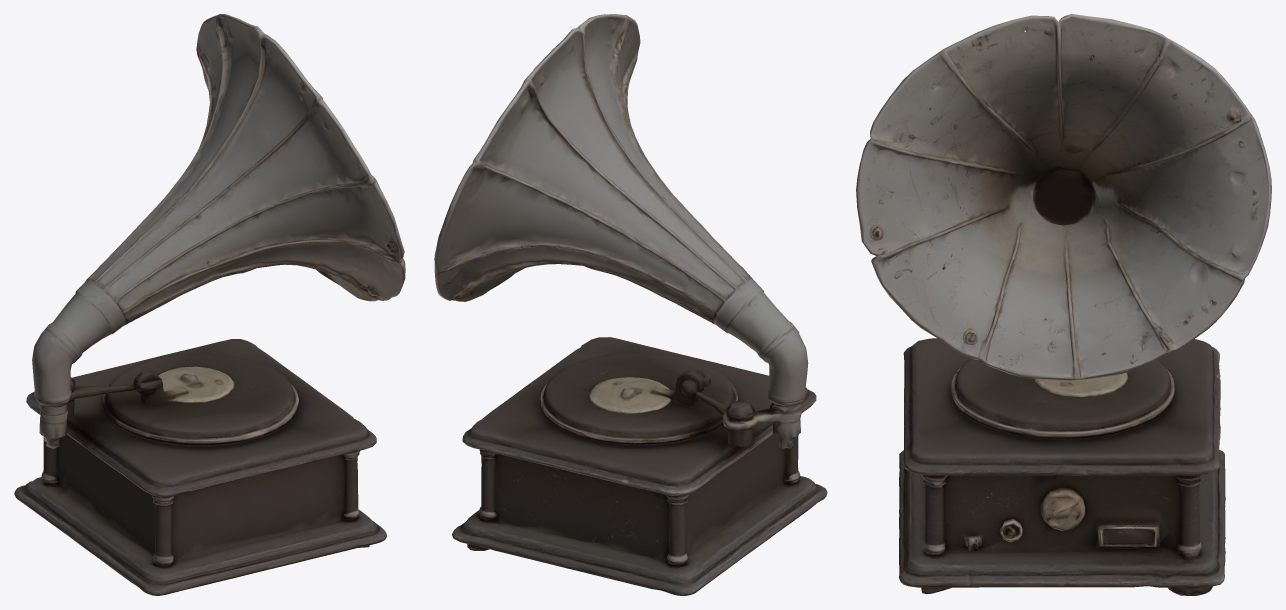
File: other.glb
The picture shows the model from 3 angles, left to right: view 1: azimuth 30°, elevation 25°; view 2: azimuth 150°, elevation 25°; view 3: azimuth 270°, elevation 25°; orthographic projection. The views are drawn at different scales.
Parts seen in each view (by area): view 1: tripo_node_3c57a638-a666-4ef4-9f81-a45f2478b1b3; view 2: tripo_node_3c57a638-a666-4ef4-9f81-a45f2478b1b3; view 3: tripo_node_3c57a638-a666-4ef4-9f81-a45f2478b1b3.
Part boxes in pixels (x1=…): tripo_node_3c57a638-a666-4ef4-9f81-a45f2478b1b3: x1=14, y1=14, x2=405, y2=595; tripo_node_3c57a638-a666-4ef4-9f81-a45f2478b1b3: x1=434, y1=14, x2=827, y2=595; tripo_node_3c57a638-a666-4ef4-9f81-a45f2478b1b3: x1=856, y1=14, x2=1271, y2=595.
Bounding box in the file's own units: 0.6751 × 1 × 0.6813.
Materials: 1 (1 with a texture image).
